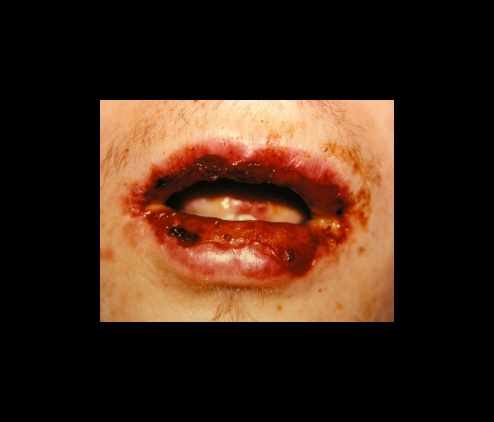SJS-TEN: (116, 133, 383, 286)
